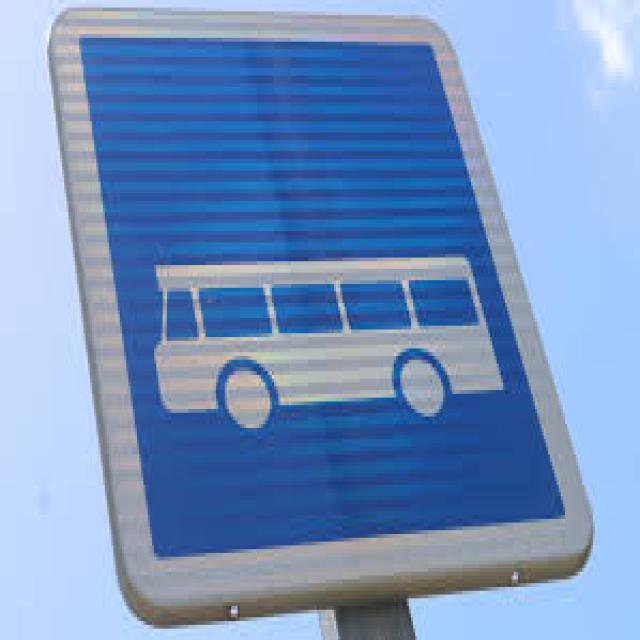ArretBus: (48, 14, 596, 627)
